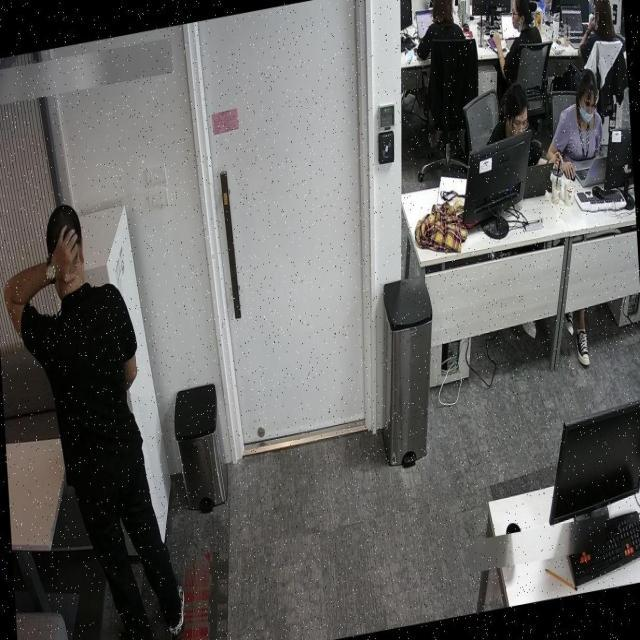hairnet: (580, 95, 596, 123)
